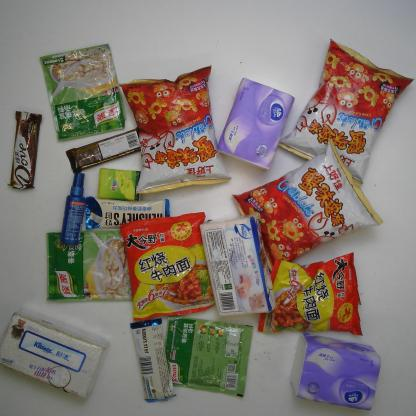Chocolate: (127, 318, 178, 405), (64, 127, 144, 174), (5, 109, 45, 193), (84, 195, 172, 231)
Instant Noodles: (119, 212, 222, 327), (257, 252, 363, 337)
Personal Hygiene: (59, 173, 86, 244)
Puffed Food: (229, 138, 384, 275), (274, 39, 415, 184), (120, 66, 230, 195)
Seasoner: (37, 42, 126, 143), (163, 314, 253, 400), (43, 227, 140, 305)
Tissue: (3, 311, 110, 400), (199, 216, 277, 315), (216, 77, 296, 173), (288, 333, 382, 410), (93, 165, 145, 203)
